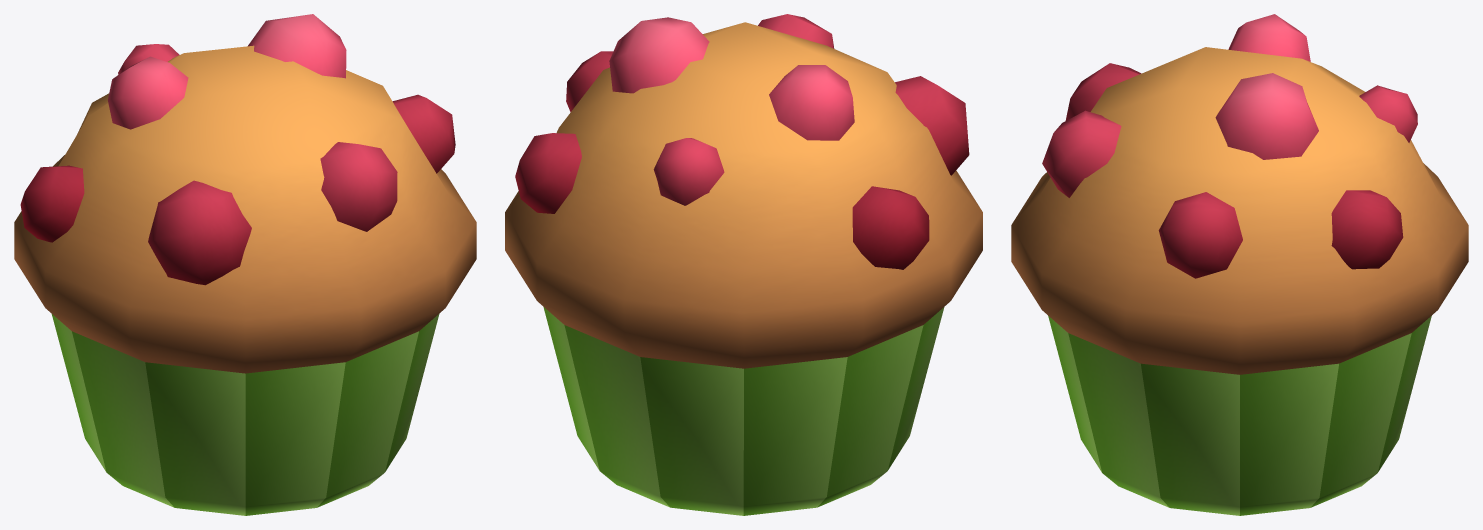
File: m_Cupcake05.fbx
The picture shows the model from 3 angles, left to right: view 1: azimuth 30°, elevation 25°; view 2: azimuth 150°, elevation 25°; view 3: azimuth 270°, elevation 25°; orthographic projection. The views are drawn at different scales.
Parts seen in each view (by area): view 1: m_Cupcake05; view 2: m_Cupcake05; view 3: m_Cupcake05.
Part boxes in pixels (bbox=[...]): m_Cupcake05: bbox=[14, 14, 476, 515]; m_Cupcake05: bbox=[505, 14, 982, 515]; m_Cupcake05: bbox=[1011, 14, 1468, 515].
Bounding box in the file's own units: 11.39 × 11.17 × 11.39.
